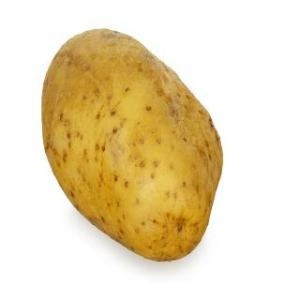potato: (38, 18, 230, 278)
